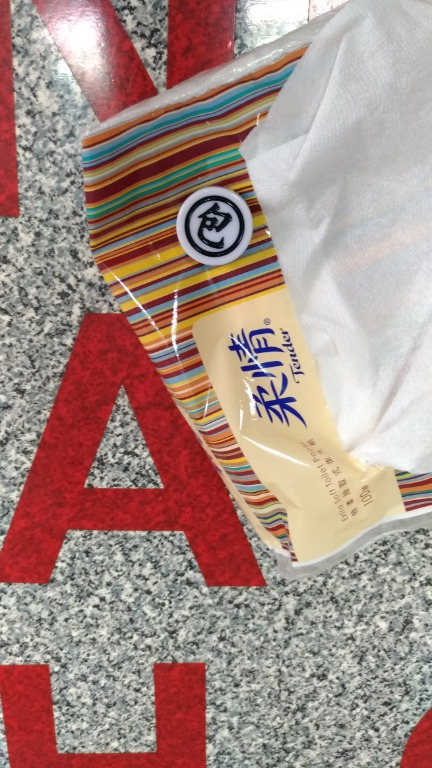b-cannon: (163, 173, 270, 290)
